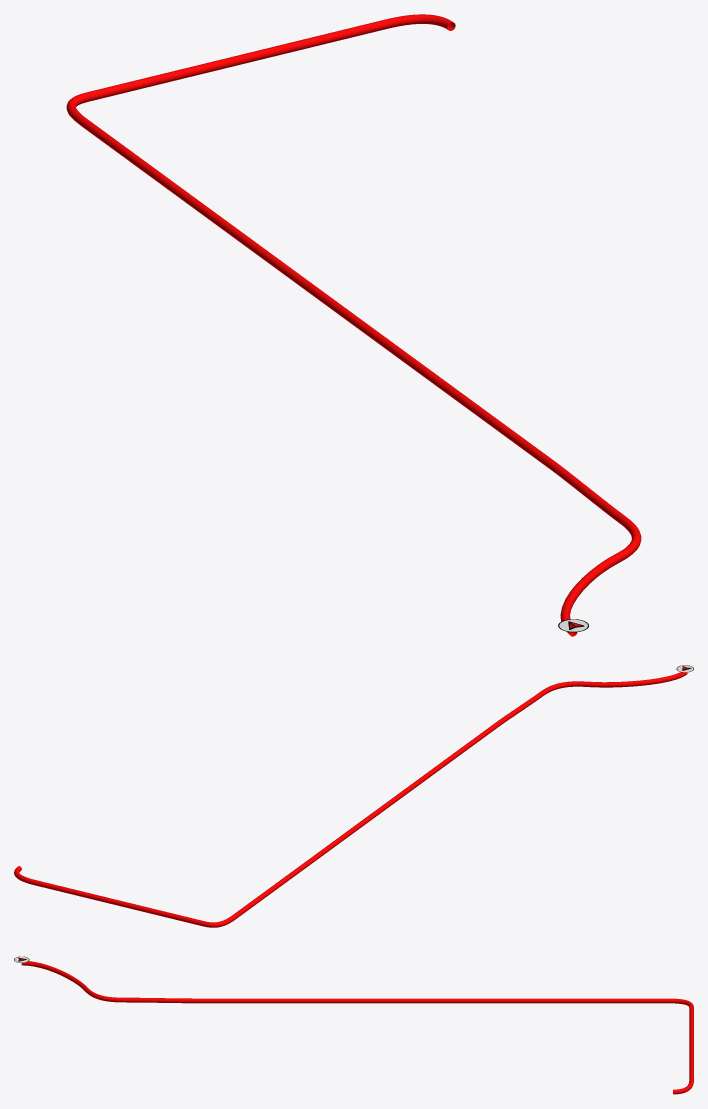
The model's file is route_327f5a06-4853-4615-8814-bf1394a9e9b4_de_single.glb.
3 views of the same model, one above another, from view 1: azimuth 30°, elevation 25°; view 2: azimuth 150°, elevation 25°; view 3: azimuth 270°, elevation 25° (orthographic). The views are drawn at different scales.
Visible parts, largest first — view 1: B7, Abteil 4; view 2: B7, Abteil 4; view 3: B7, Abteil 4.
Part boxes in pixels (x1=…): B7, Abteil 4: x1=66, y1=14, x2=641, y2=636; B7, Abteil 4: x1=14, y1=672, x2=687, y2=927; B7, Abteil 4: x1=21, y1=961, x2=693, y2=1094.
Size of the model in its own units: 5.27 by 0.1062 by 11.35.
